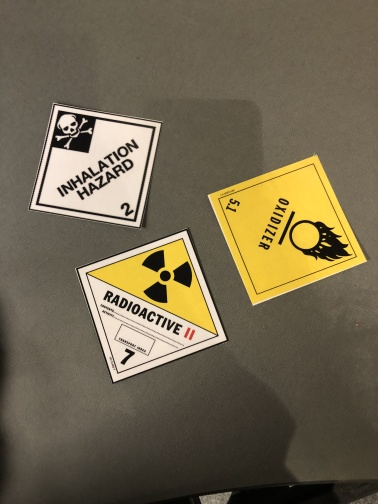InhalationHazard: (27, 103, 161, 228)
Oxidizer: (207, 154, 368, 306)
Radioactive: (76, 230, 228, 383)
